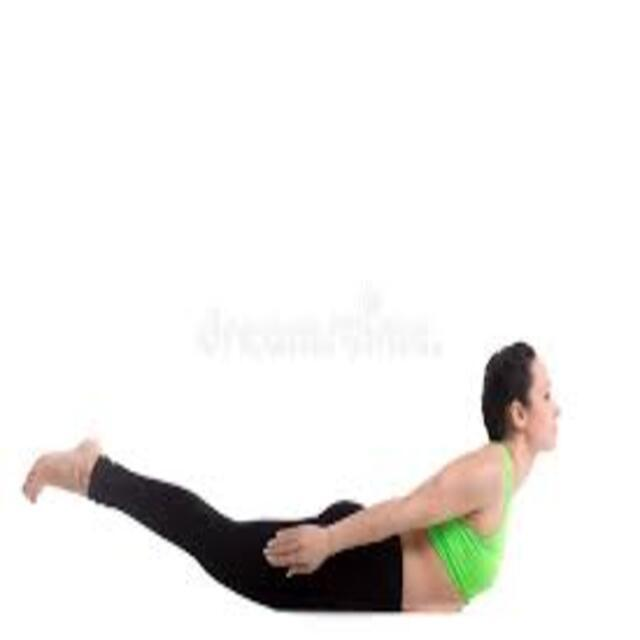Locust_Pose: (25, 342, 561, 613)
